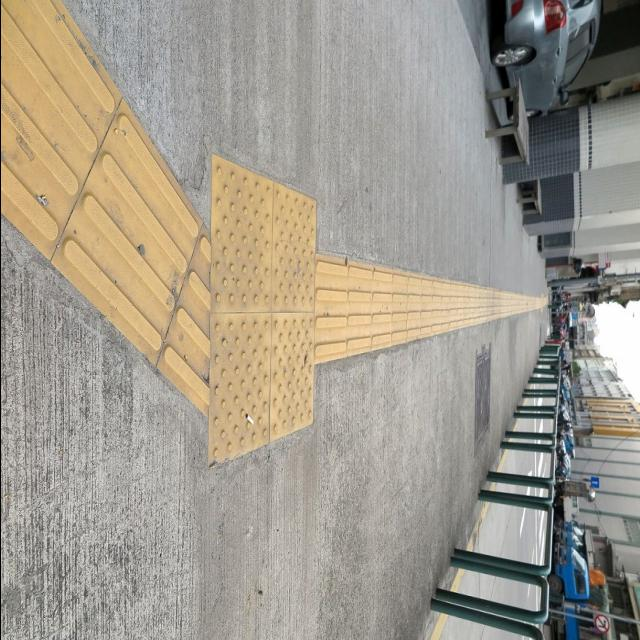tactile-guide-path: (1, 1, 210, 413), (211, 154, 315, 464), (314, 254, 548, 364)
